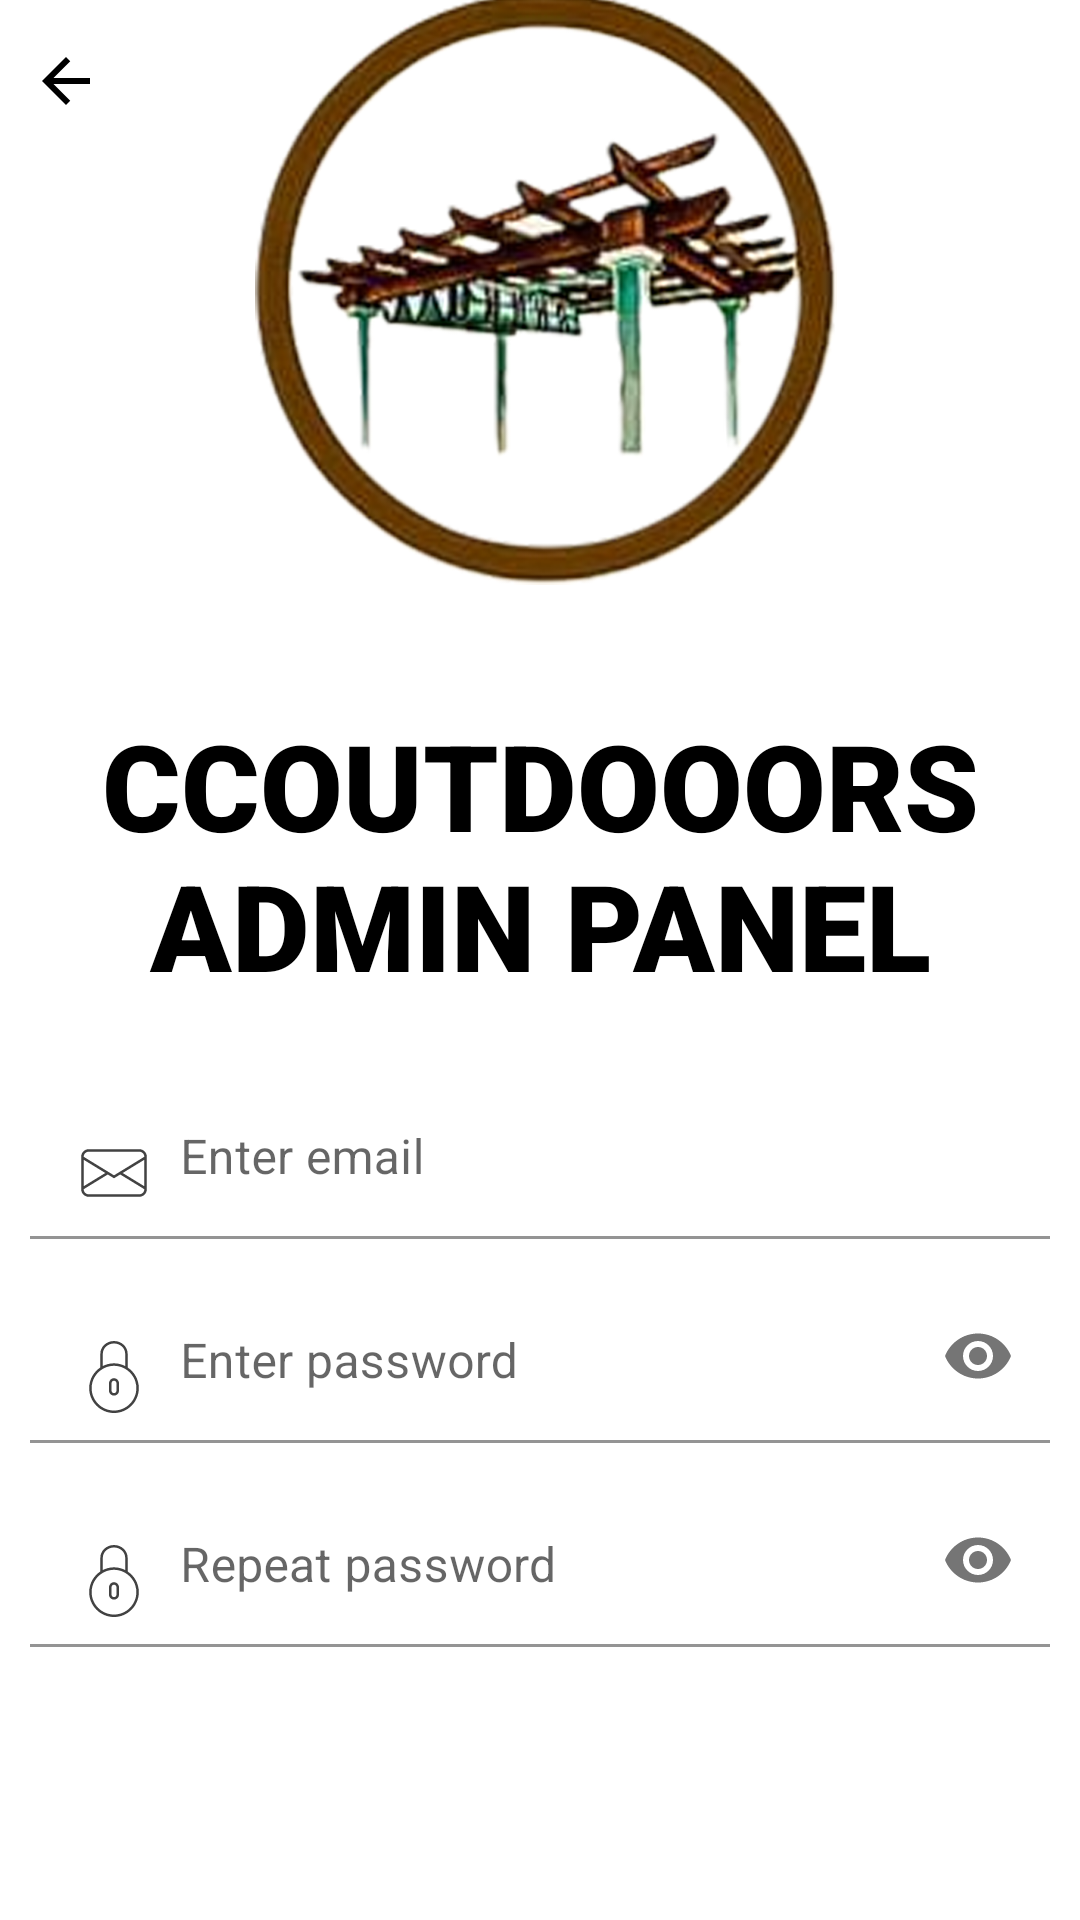

Icon bounding boxes for this 1080*1920 phone screenshot, format (x1, y1, x2, y2):
arrow back: (42, 57, 90, 105)
